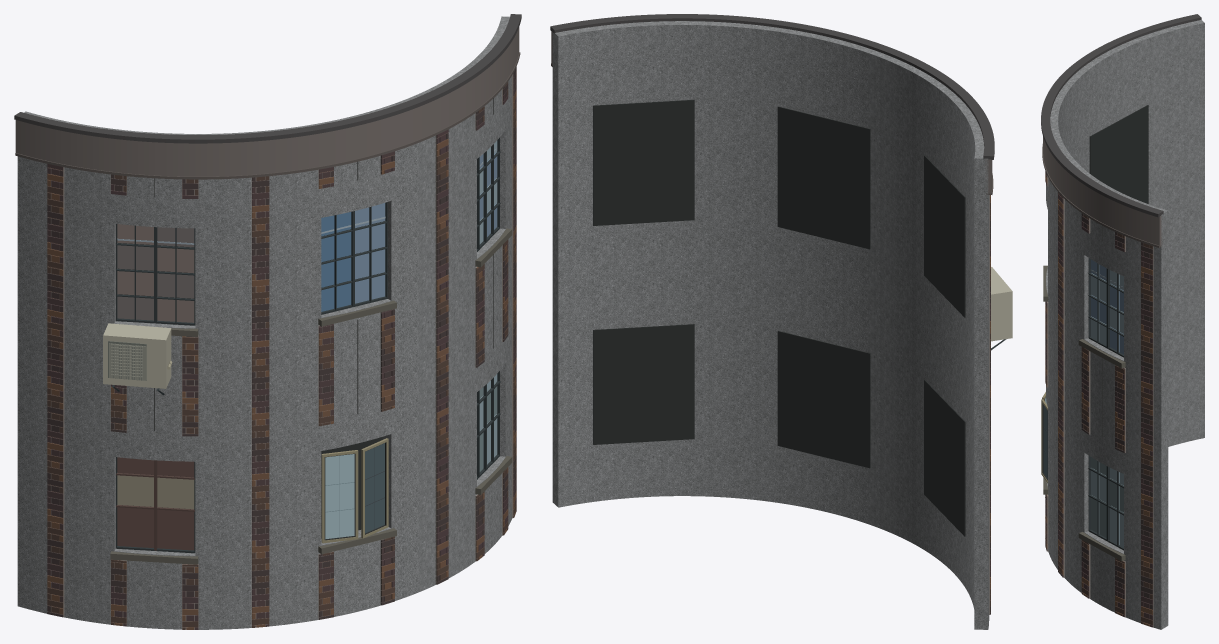
Rendered from changning-yuyuan-lane-749-curved-front-raw.glb.
The picture shows the model from 3 angles, left to right: view 1: azimuth 30°, elevation 25°; view 2: azimuth 150°, elevation 25°; view 3: azimuth 270°, elevation 25°; orthographic projection. The views are drawn at different scales.
Parts seen in each view (by area): view 1: 2018年署名「愚园路749弄65号」照片中的灰色弧面住宅; view 2: 2018年署名「愚园路749弄65号」照片中的灰色弧面住宅; view 3: 2018年署名「愚园路749弄65号」照片中的灰色弧面住宅.
Part boxes in pixels (x1,y1,x2,y2): 2018年署名「愚园路749弄65号」照片中的灰色弧面住宅: [14, 14, 521, 629]; 2018年署名「愚园路749弄65号」照片中的灰色弧面住宅: [550, 14, 1012, 629]; 2018年署名「愚园路749弄65号」照片中的灰色弧面住宅: [1041, 14, 1204, 629].
Size of the model in its own units: 8.11 by 7.89 by 2.81.
Materials: 33 (1 with a texture image).
